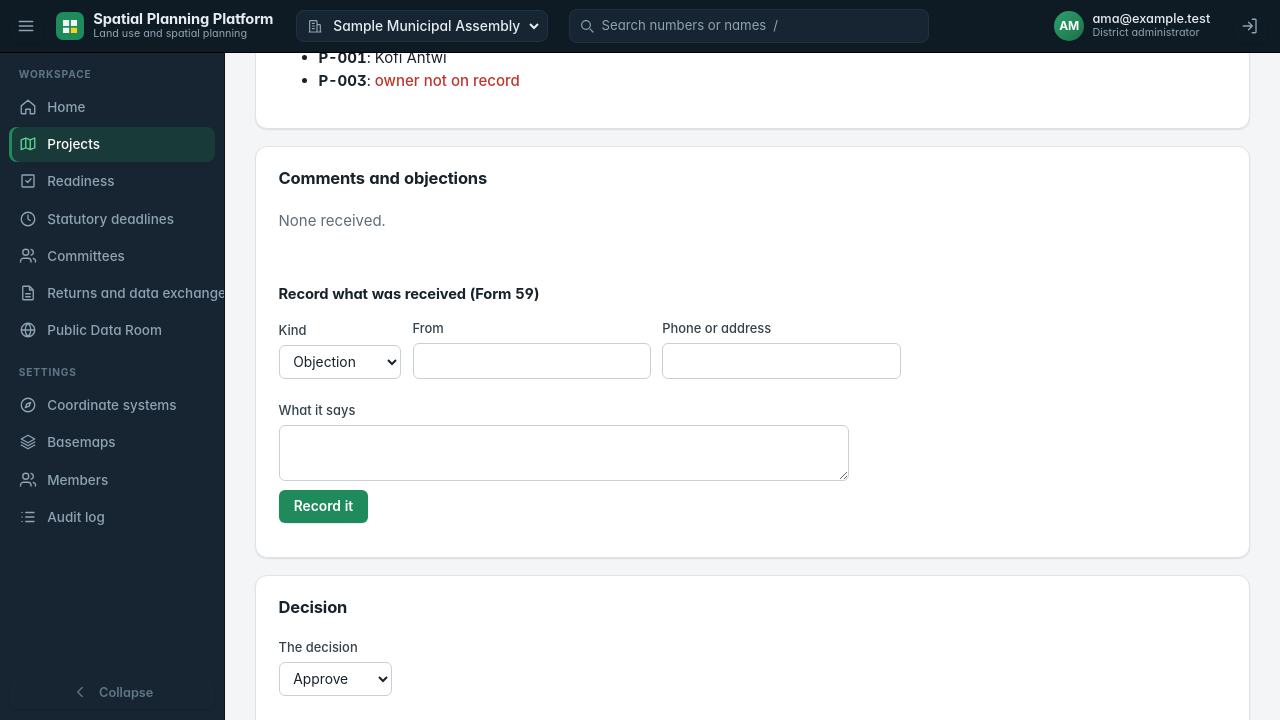
Test case: re-zoning, change of use and subdivision › records an objection and the decision, then writes an approved zone to the map
(page scrolled)
Type "Kojo Antwi" into the field labelled "From" at (532, 361), box [412, 343, 651, 379]
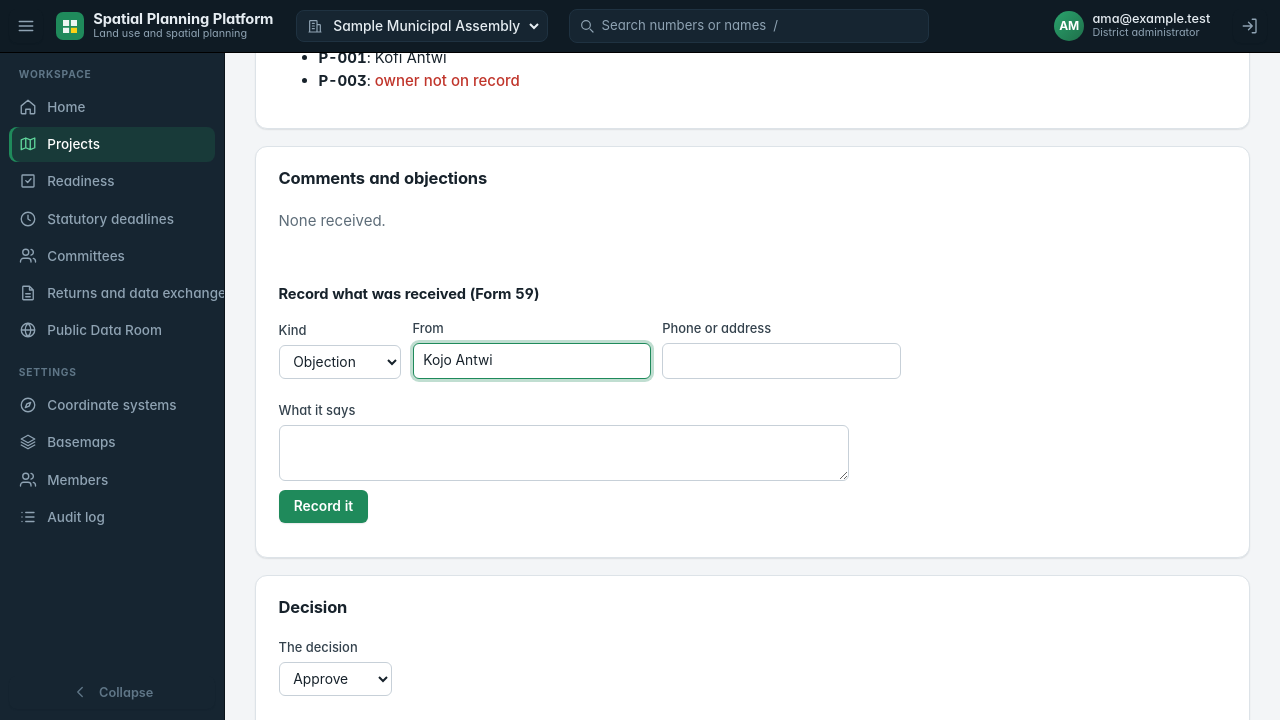
Type "Traffic." into the text box labelled "What it says" at (564, 453), box [278, 425, 848, 481]
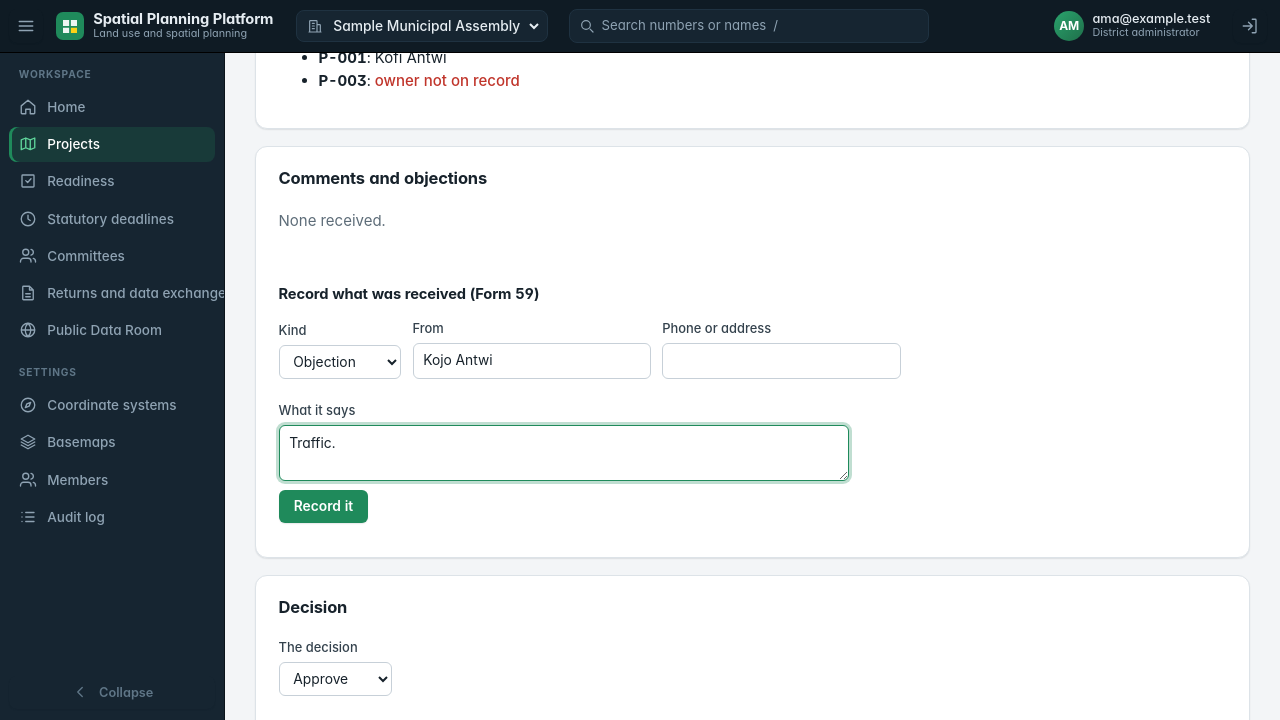
Click the button "Record it" at (323, 506), box [278, 490, 368, 522]
(page scrolled)
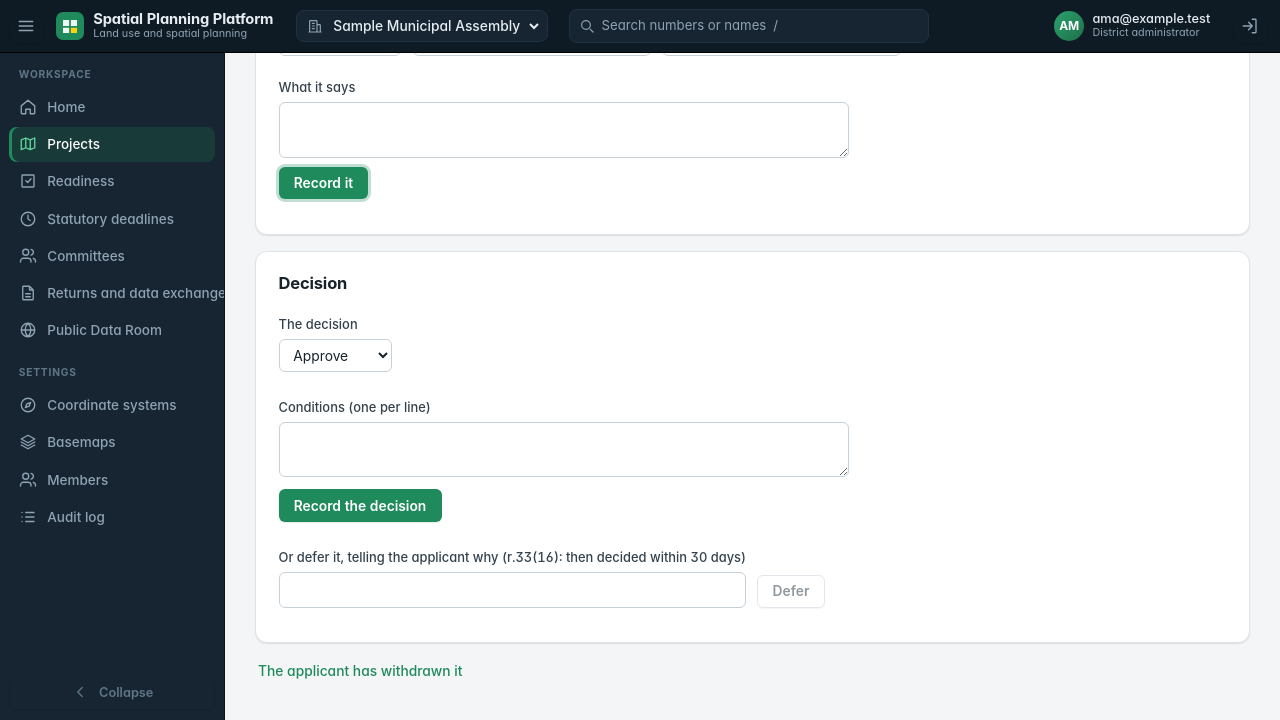
Type "Three storeys at most." into the text box labelled "Conditions" at (564, 450), box [278, 422, 848, 477]
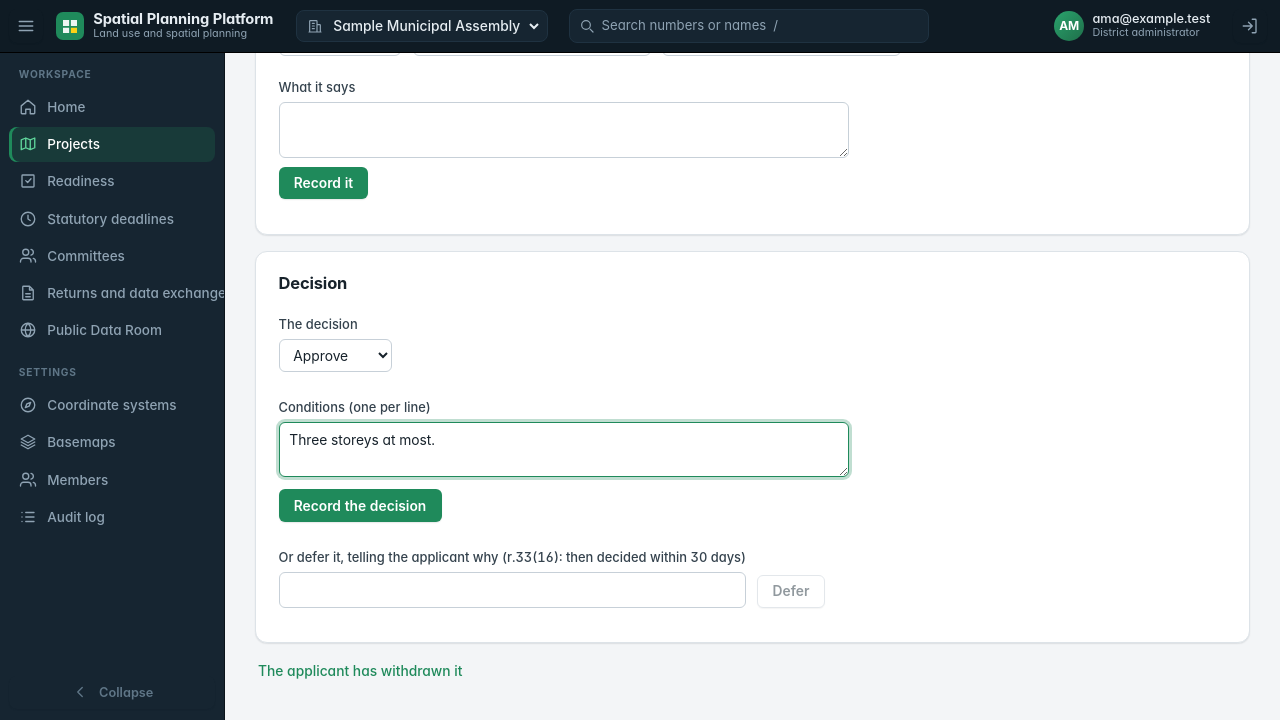
Click the button "Record the decision" at (360, 506), box [278, 489, 442, 522]
(page scrolled)
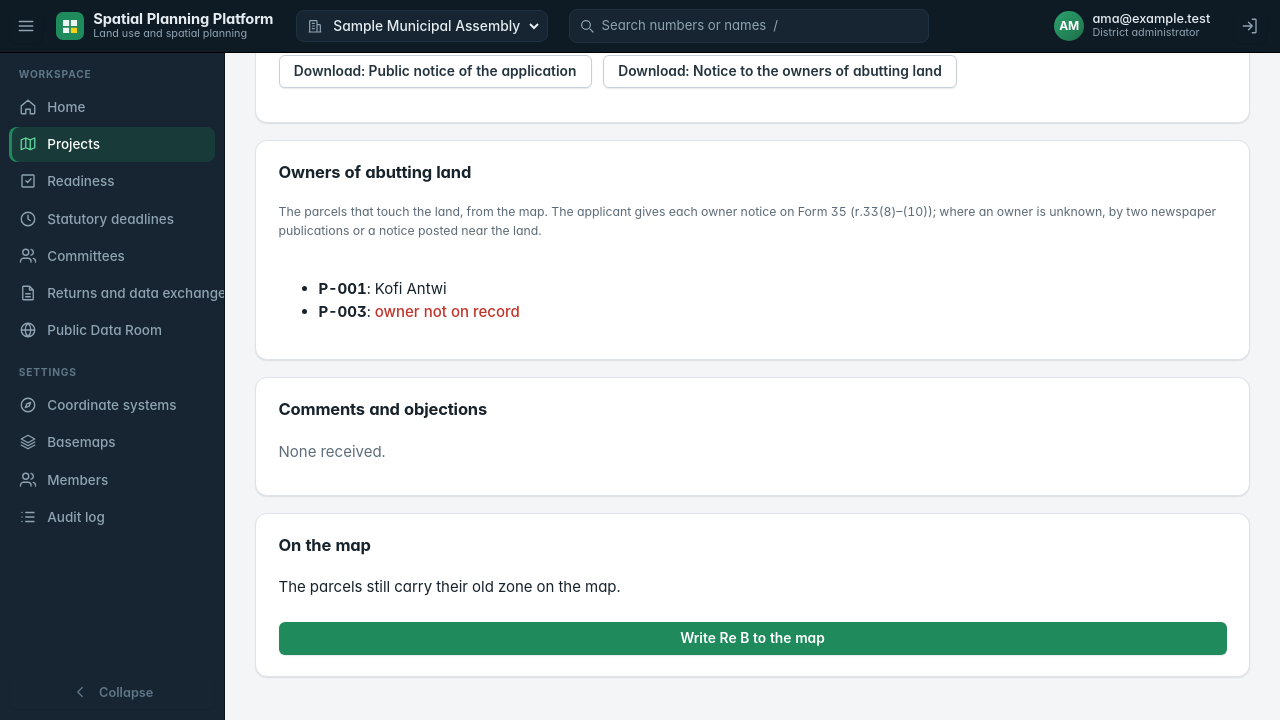
Click the button "Write Re B to the map" at (752, 639), box [278, 622, 1226, 655]
(page scrolled)
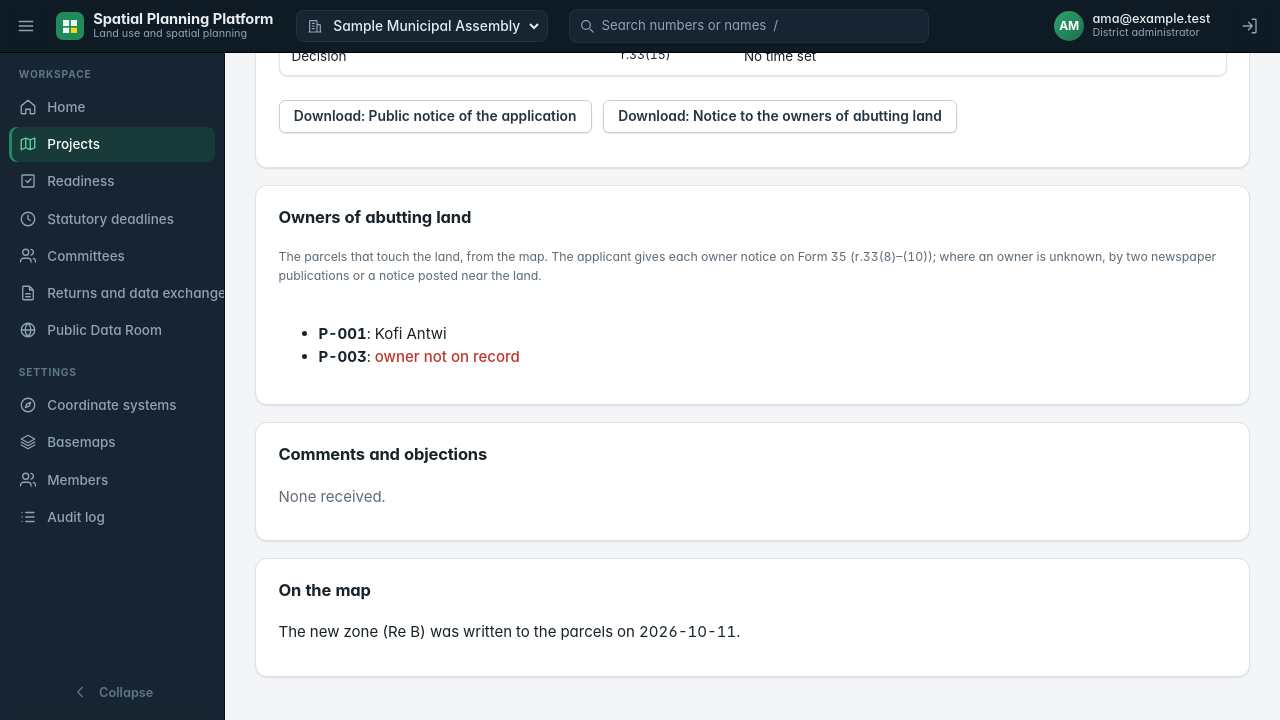
Now the element "On the map" shows "was written to the parcels on 2026-10-11", box [255, 558, 1250, 677]
